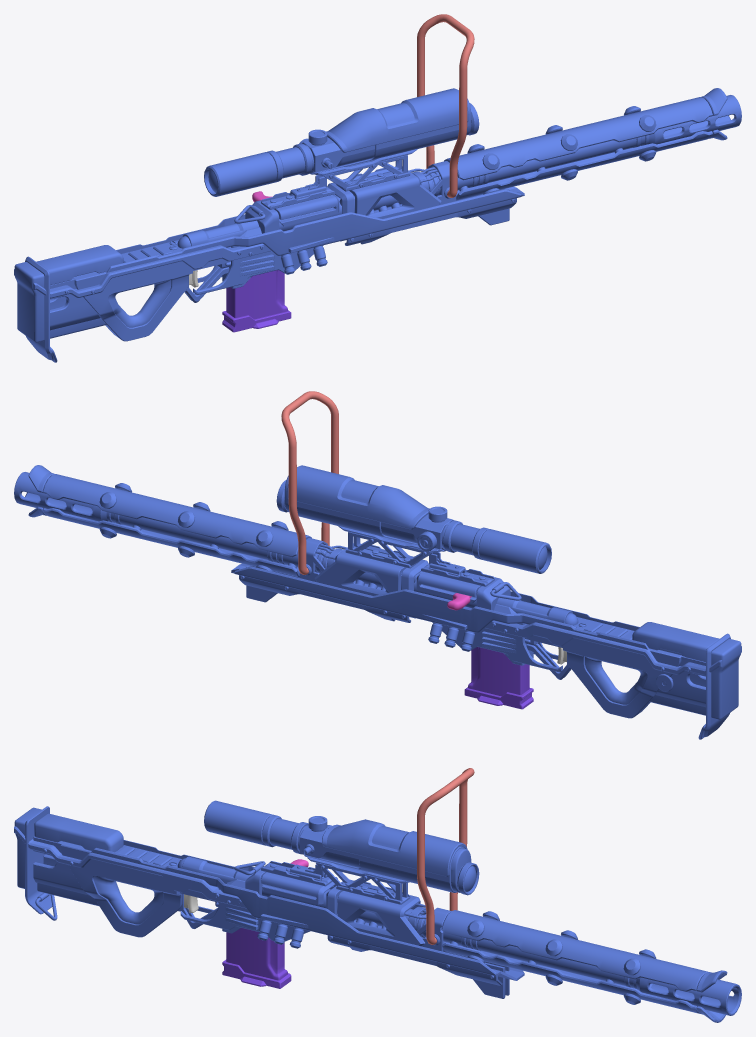
File: sm_weapon_sniper.glb
3 views of the same model, one above another, from view 1: azimuth 30°, elevation 25°; view 2: azimuth 150°, elevation 25°; view 3: azimuth 330°, elevation 25° (orthographic).
Size of the model in its own units: 0.9179 by 0.3078 by 0.1054.
